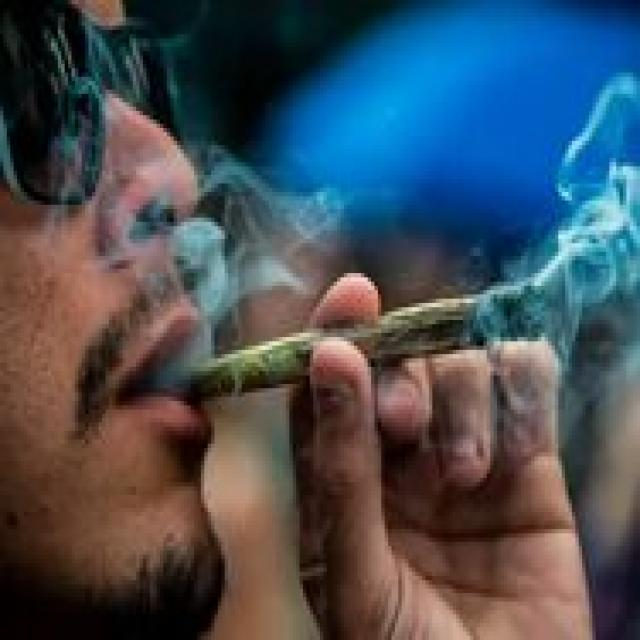cigarette: (167, 282, 555, 409)
